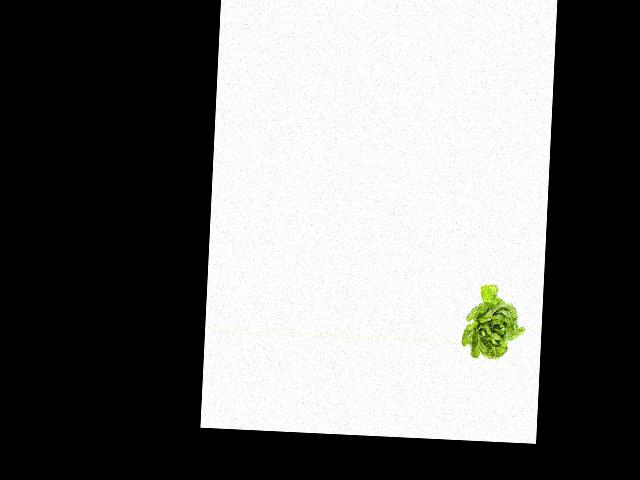lettuce: (462, 280, 527, 361)
